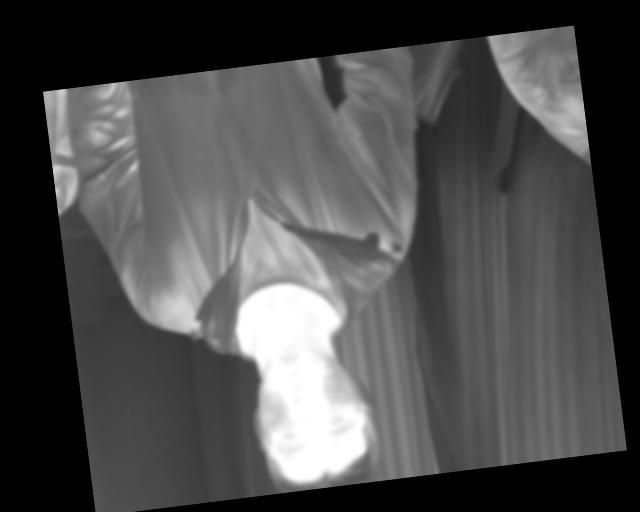face: (245, 340, 382, 494)
